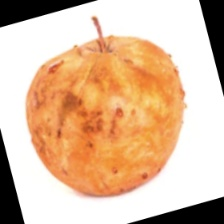apple: (0, 30, 186, 224)
